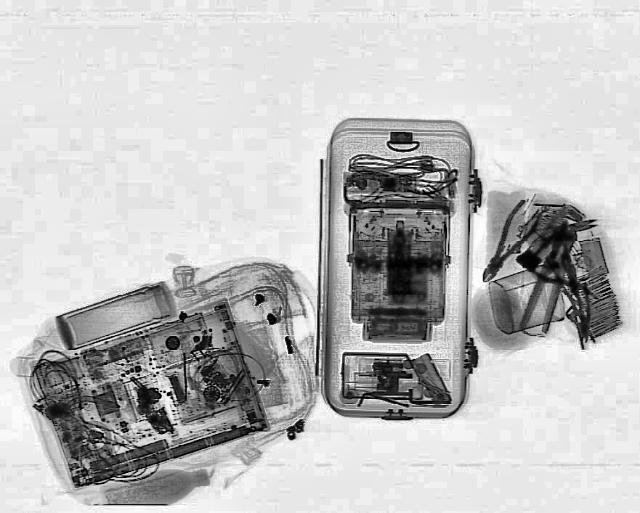Pliers: (467, 198, 549, 286)
